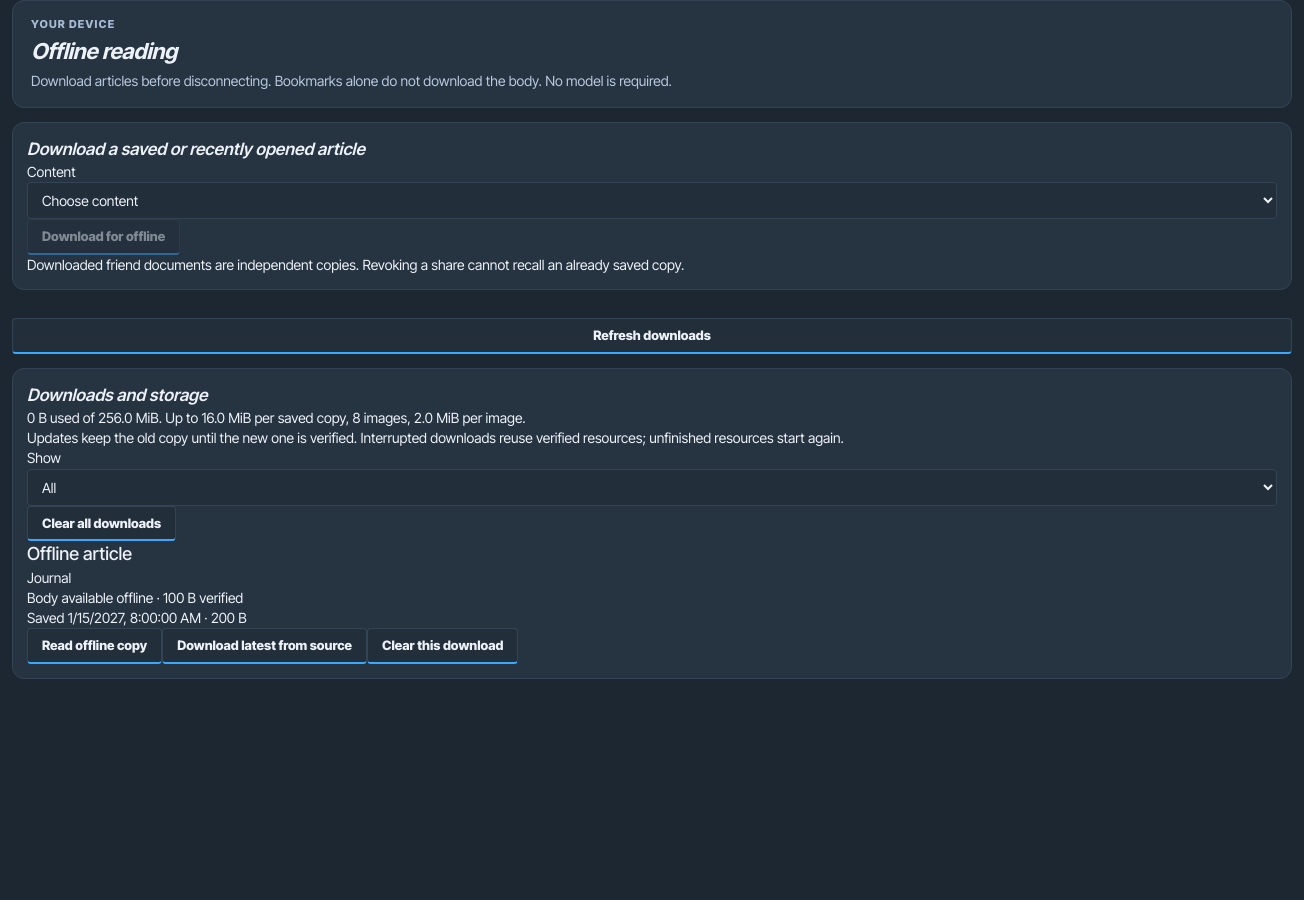
Test: reviews counts and space before clearing, and reports a stale review without success
The image size is (1304, 900).
Click the button "Clear this download": (443, 646) [367,628,518,664]
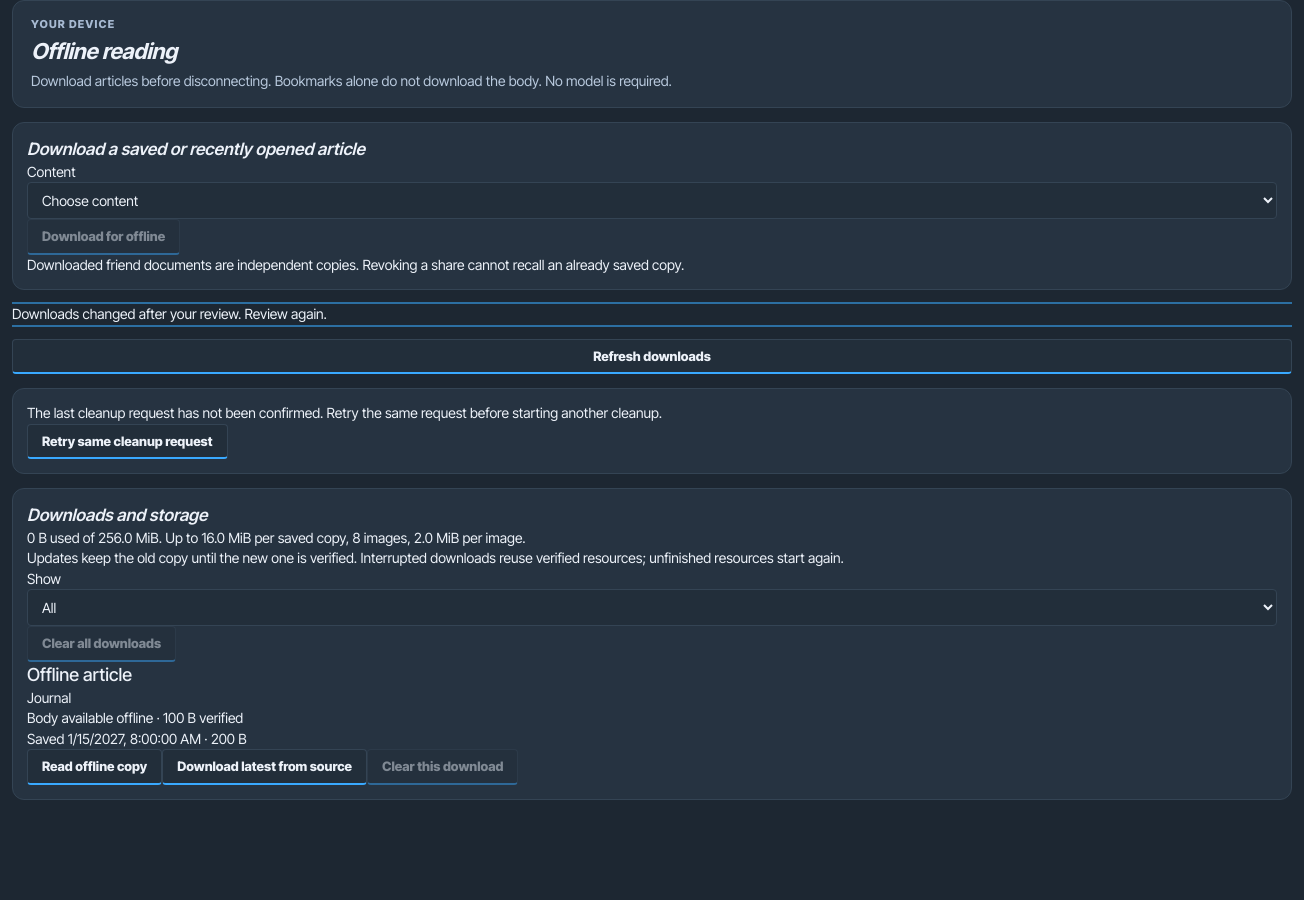
Expected: the message shows "changed after your review", [12,305,327,322]
